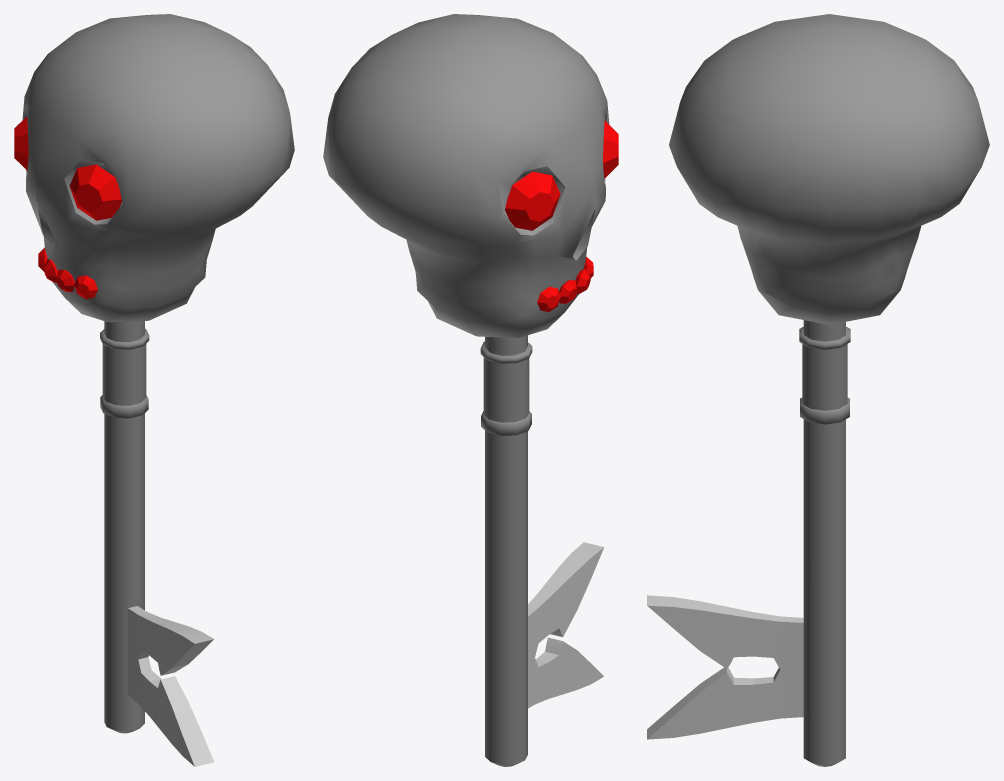
Rendered from Keyy.FBX.
The picture shows the model from 3 angles, left to right: view 1: azimuth 30°, elevation 25°; view 2: azimuth 150°, elevation 25°; view 3: azimuth 270°, elevation 25°; orthographic projection. The views are drawn at different scales.
Visible parts, largest first — view 1: Box003; view 2: Box003; view 3: Box003.
Boxes of the visible parts, bbox=[...] form: Box003: bbox=[14, 14, 294, 766]; Box003: bbox=[323, 14, 618, 766]; Box003: bbox=[647, 14, 989, 766].
Size of the model in its own units: 0.451 by 1.26 by 0.5176.
